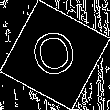O_S: (27, 24, 83, 86)
